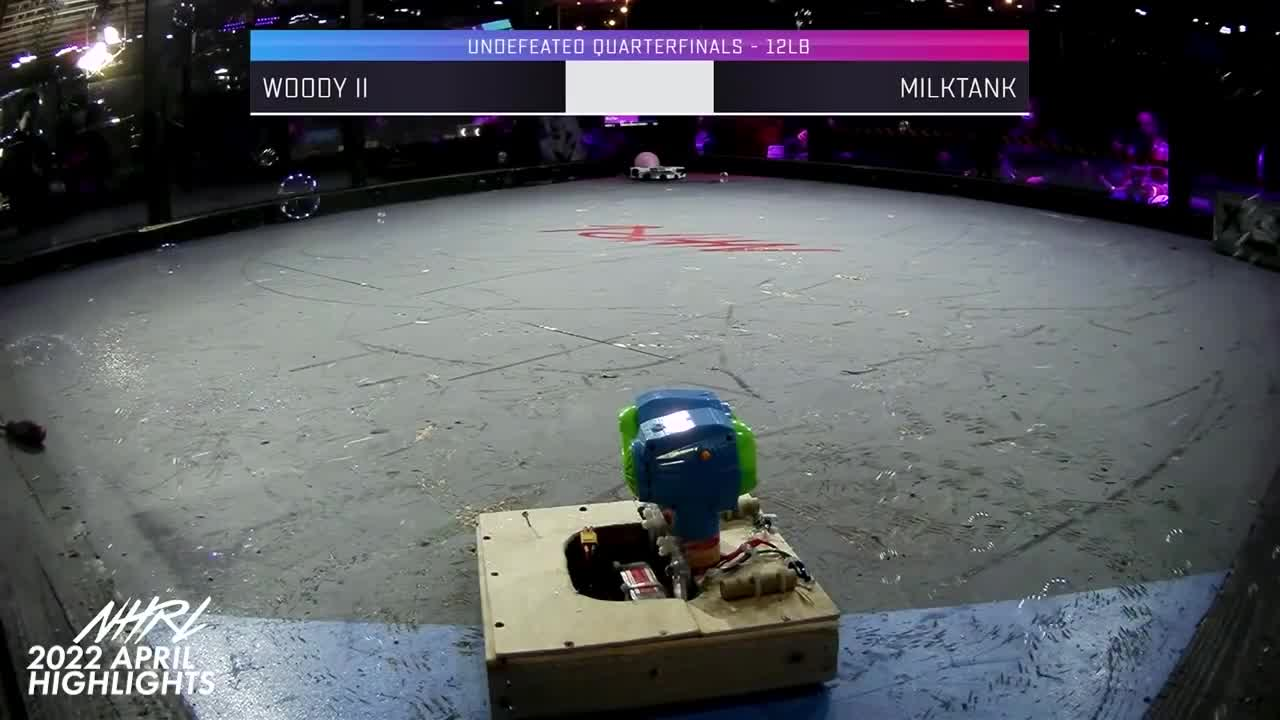combatbot: (482, 397, 837, 720), (626, 151, 686, 185)
debris: (1, 419, 48, 451)
housebot: (1208, 188, 1280, 277)
